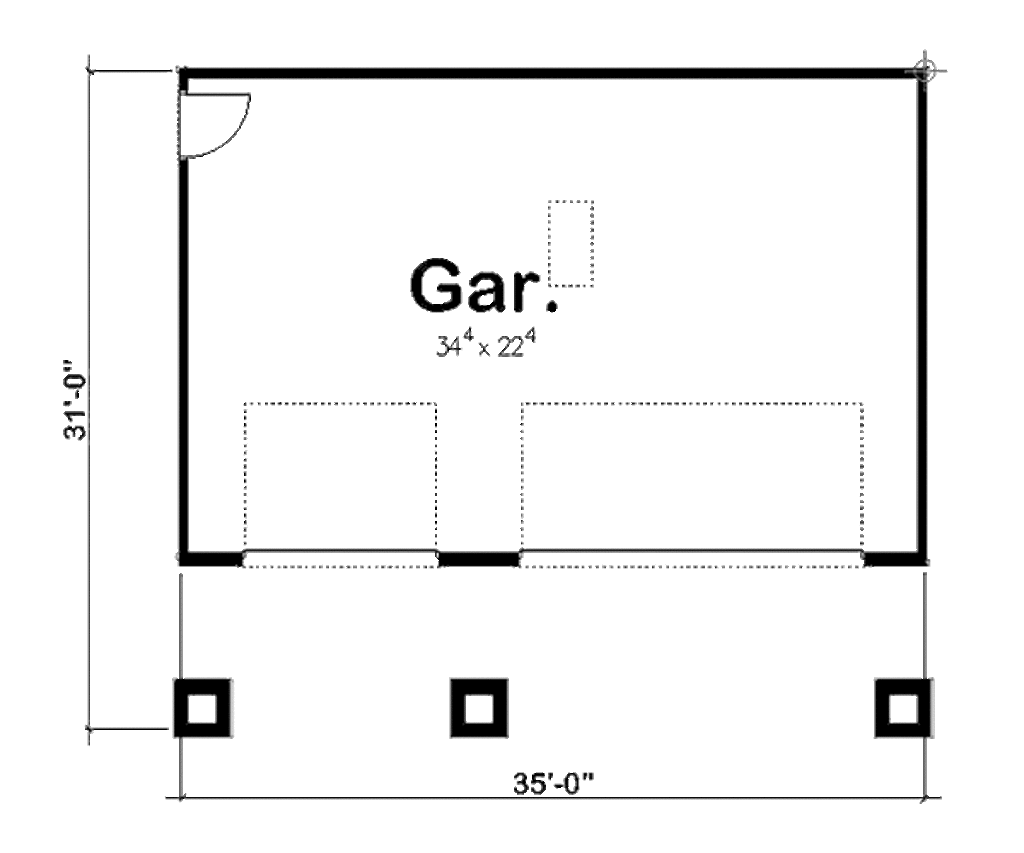door: (166, 83, 259, 165)
